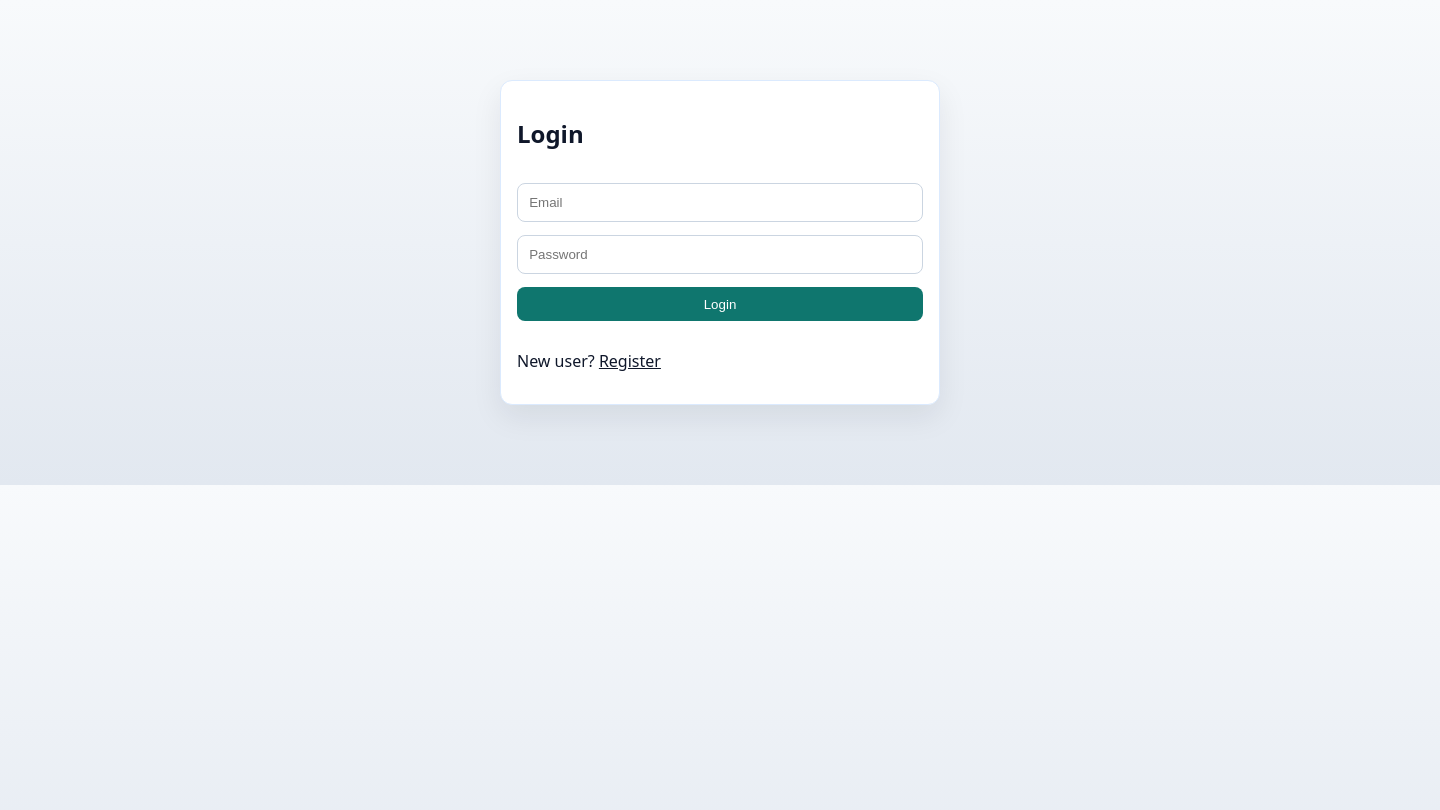
Scenario: Login page › invalid login shows error
The image size is (1440, 810).
Type "wrong@mail.com" into the field with placeholder "Email" at coordinates (720, 202), box top-left (517, 183), bottom-right (923, 222)
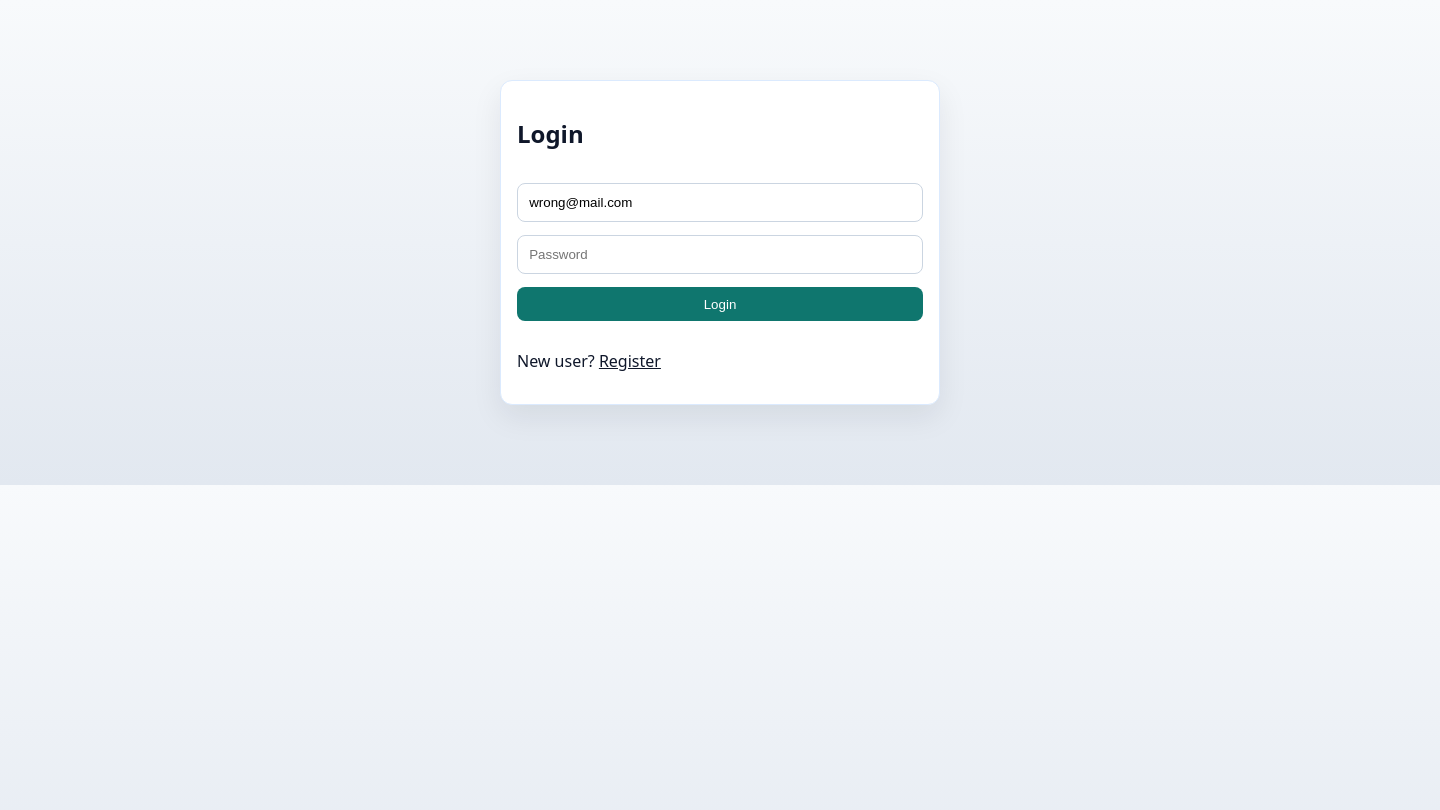
Type "wrong" into the password field with placeholder "Password" at coordinates (720, 254), box top-left (517, 235), bottom-right (923, 274)
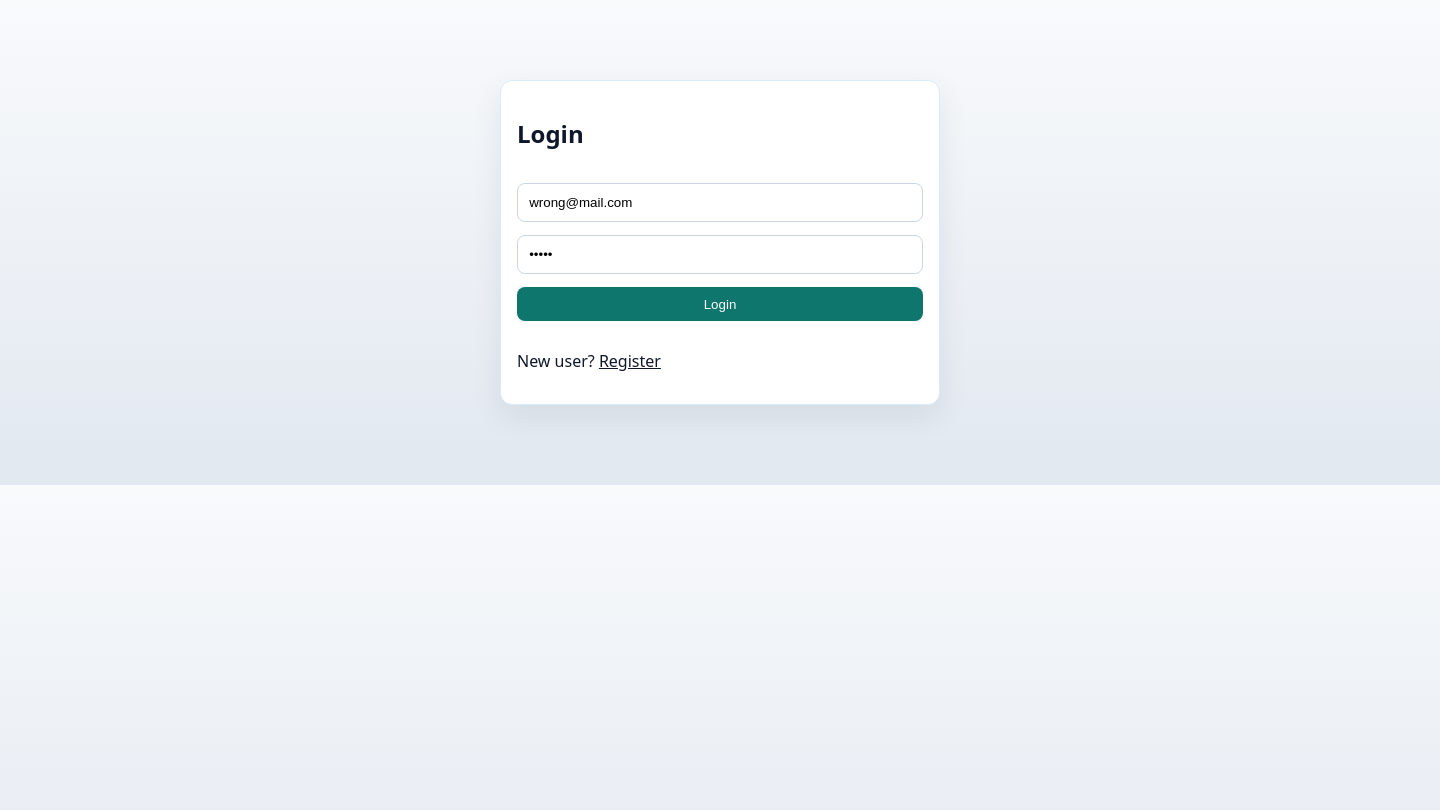
Click the button "Login" at coordinates (720, 304), box top-left (517, 287), bottom-right (923, 321)
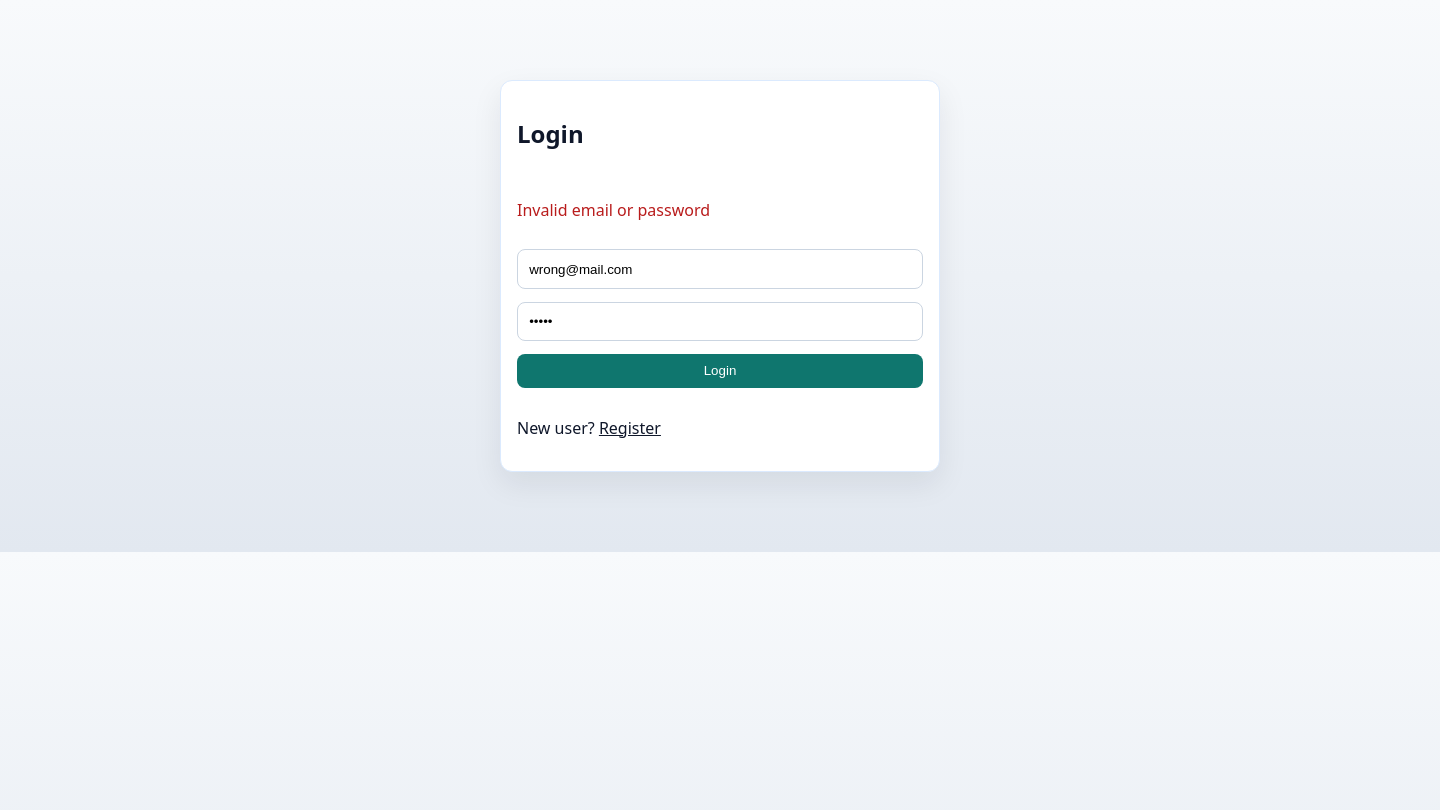
expect the text "Invalid email or password" is shown: met, box top-left (517, 199), bottom-right (710, 221)
